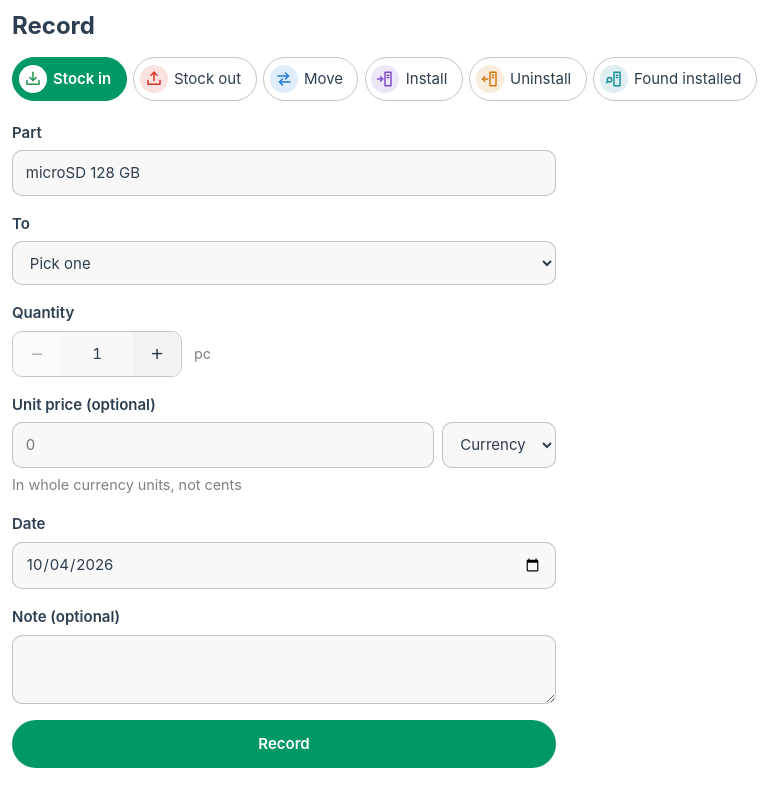
Test: Record: fields per type (spec §4.7 table) › install
Click the radio button labelled "Install" at (414, 79), box [365, 57, 463, 101]
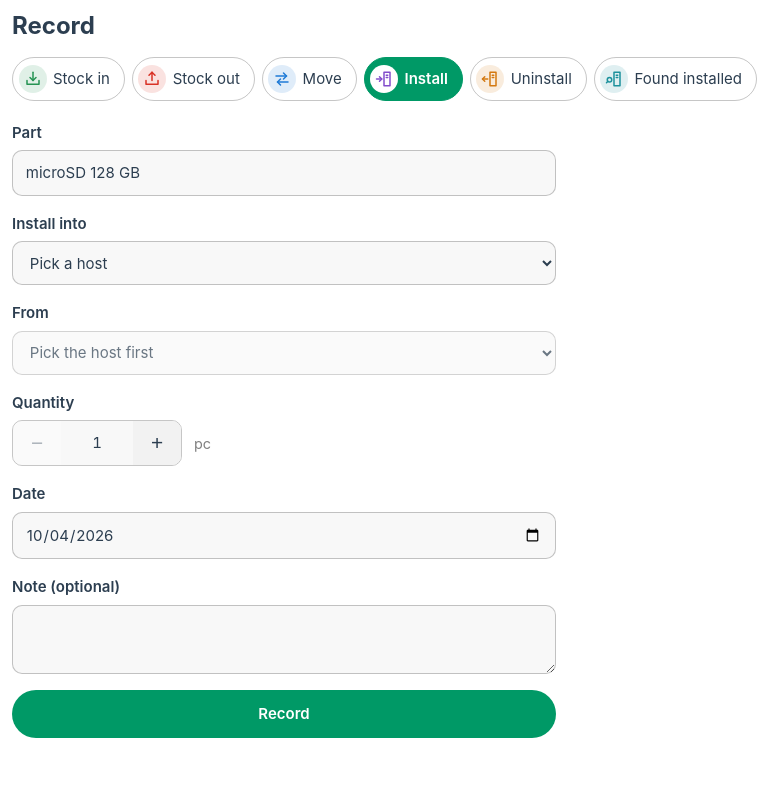
Check: the dropdown with id "rec-to" is shown, box [12, 241, 556, 285]
Check: the dropdown with id "rec-from" is shown, box [12, 331, 556, 375]
